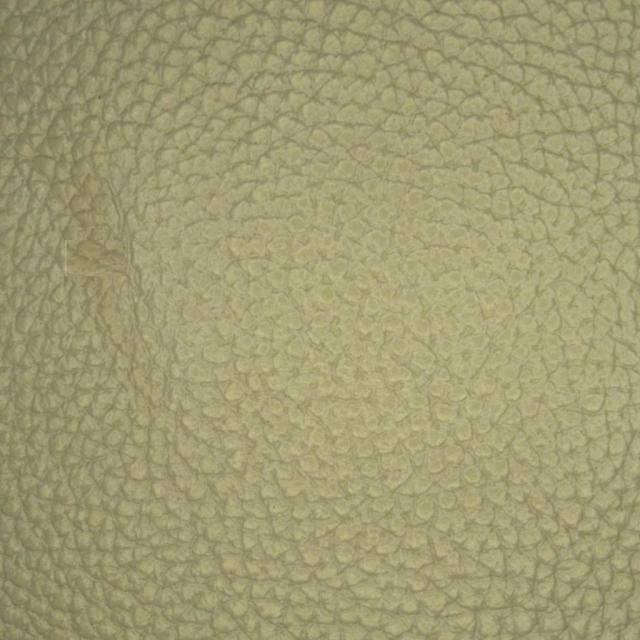Healed Injury: (12, 208, 216, 290)
